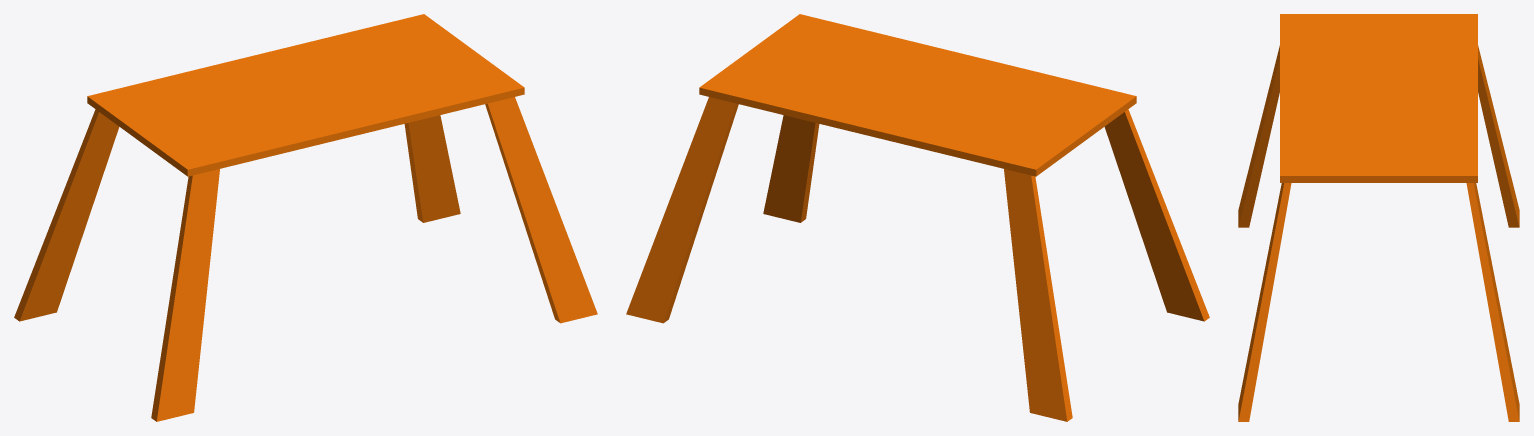
Rendered from LaboTable 1.fbx.
3 renders of one model, left to right at view 1: azimuth 30°, elevation 25°; view 2: azimuth 150°, elevation 25°; view 3: azimuth 270°, elevation 25°, orthographic.
Visible parts, largest first — view 1: LabTable; view 2: LabTable; view 3: LabTable.
Boxes of the visible parts, x1=… form: LabTable: x1=14, y1=14, x2=597, y2=421; LabTable: x1=626, y1=14, x2=1209, y2=421; LabTable: x1=1238, y1=14, x2=1519, y2=421.
Bounding box in the file's own units: 1034 × 502 × 579.
